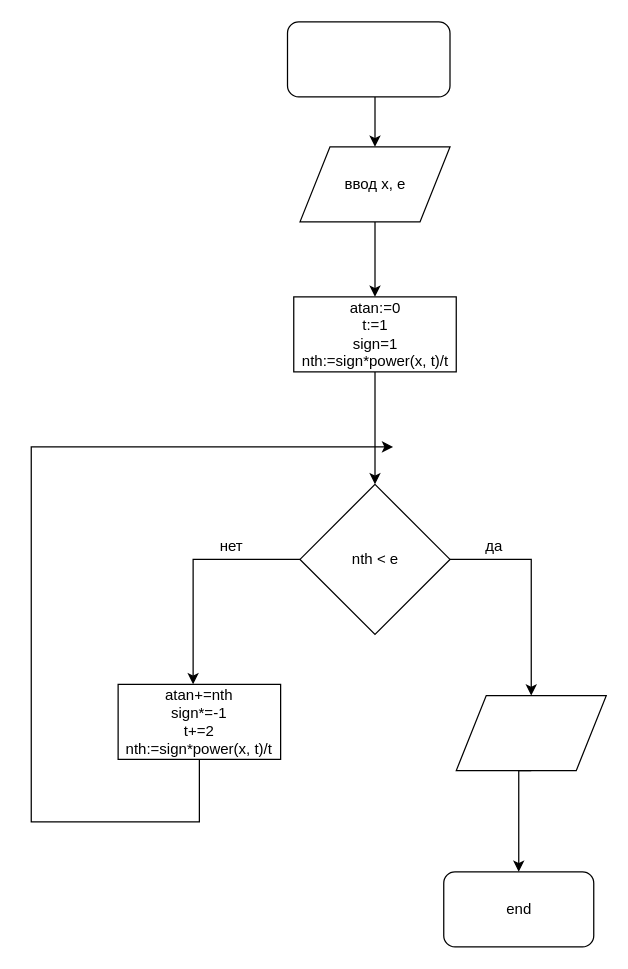
Image size: 628x969. Some labels were removed from this diagram. Here are the shapes that lost their labels. From the top down, the centre of each, then its label:
point (368, 59): begin
point (530, 732): вывод atan
